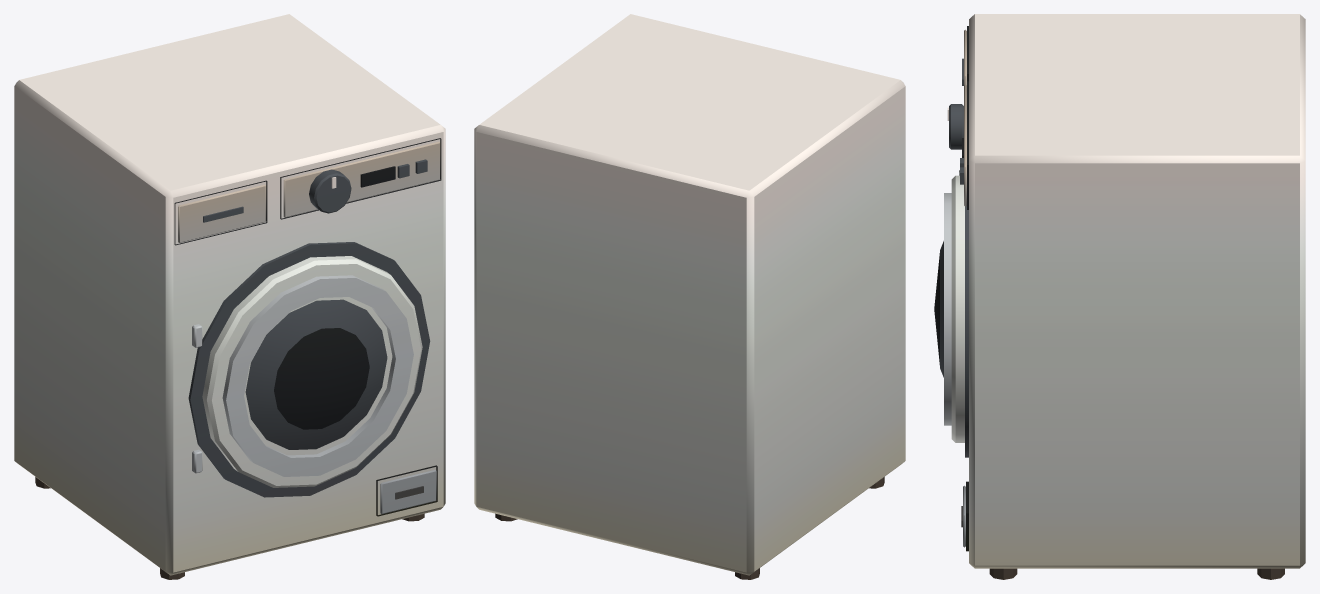
File: washer.glb
3 views of the same model, side by side, from view 1: azimuth 30°, elevation 25°; view 2: azimuth 150°, elevation 25°; view 3: azimuth 270°, elevation 25° (orthographic). The views are drawn at different scales.
Visible parts, largest first — view 1: SM_Washer_Front_01; view 2: SM_Washer_Front_01; view 3: SM_Washer_Front_01.
Part boxes in pixels (<box>): SM_Washer_Front_01: <box>14,14,445,579</box>; SM_Washer_Front_01: <box>474,14,905,579</box>; SM_Washer_Front_01: <box>934,14,1305,579</box>.
Size of the model in its own units: 0.7 by 0.95 by 0.75.
Materials: 1 (1 with a texture image).
